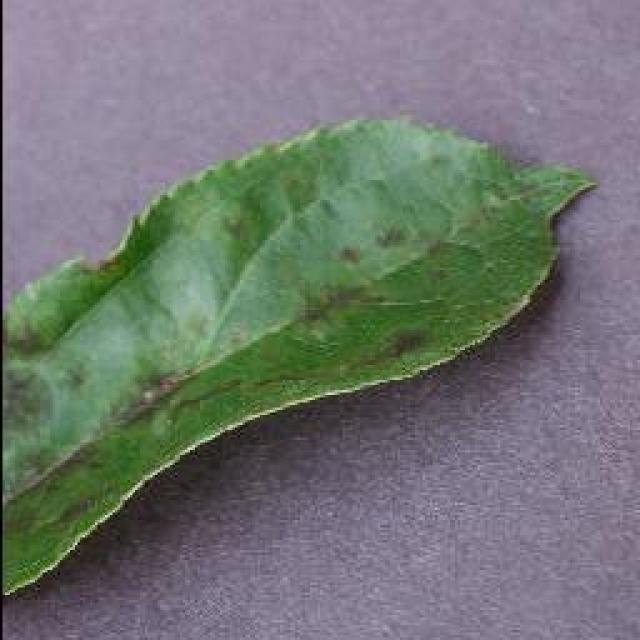apple scab disease: (0, 110, 598, 595)
